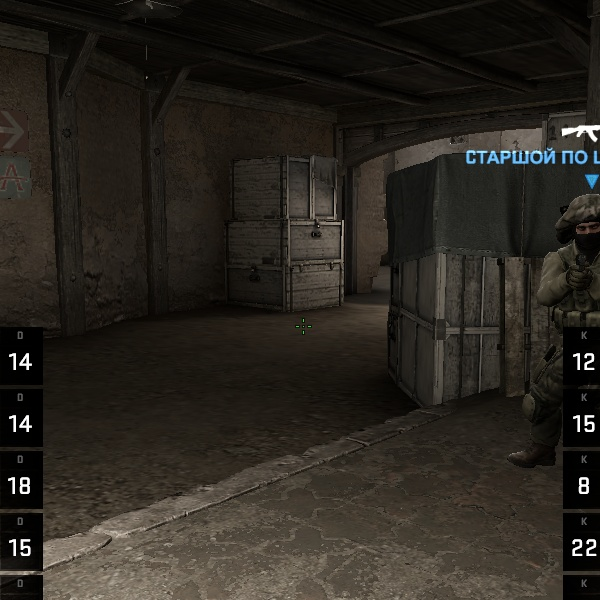ct_body: (529, 192, 592, 464)
ct_head: (556, 190, 600, 256)
